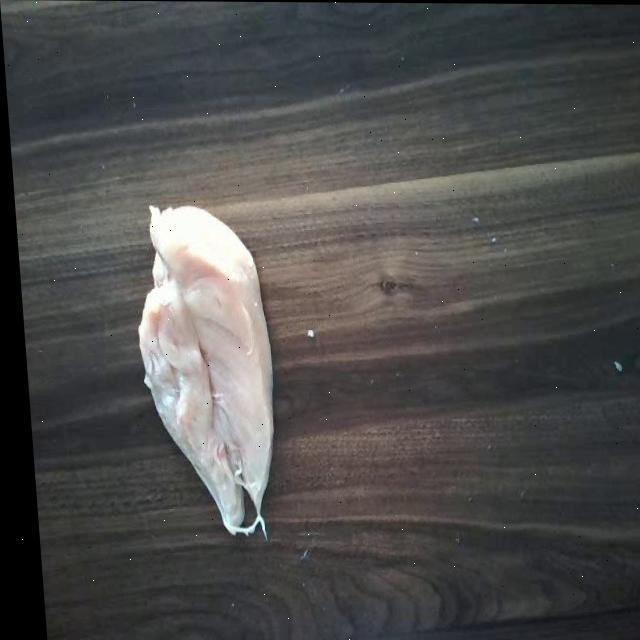breast: (125, 208, 278, 512)
